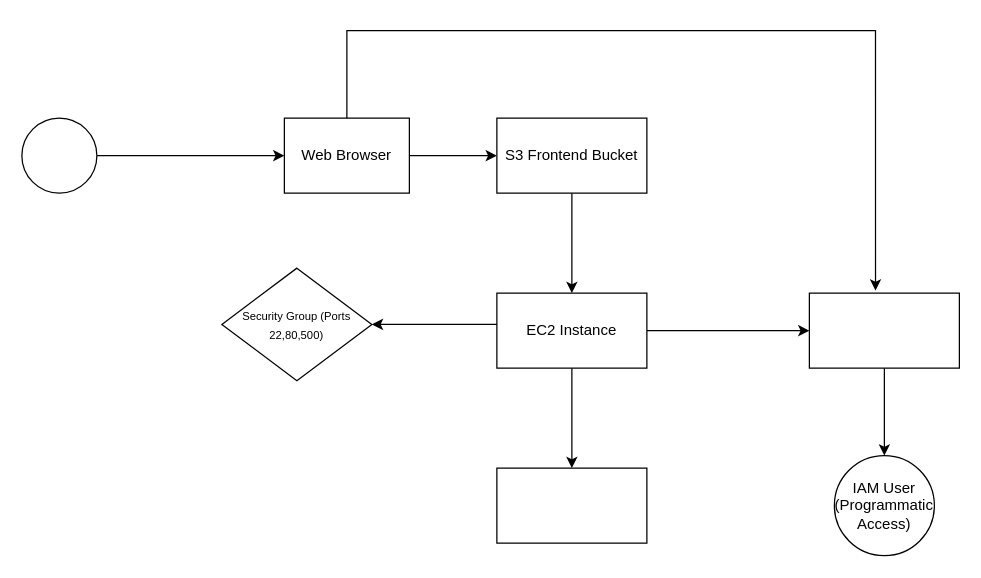
Image size: 981x578. Some labels were removed from this diagram. Here are the shapes that lost their labels. From the top down, the centre of each, then its label:
At point (59, 155): "User".
At point (883, 330): "S3 Mesia Bucket".
At point (571, 505): "MongoDB".
